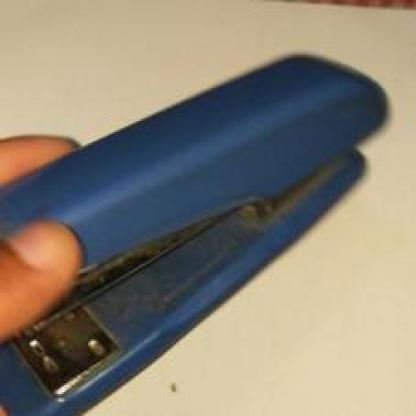stapler: (2, 40, 391, 416)
